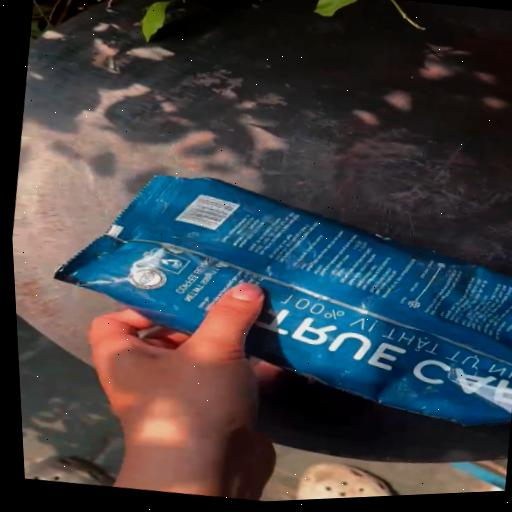cafe_hat: (383, 329, 396, 340)
